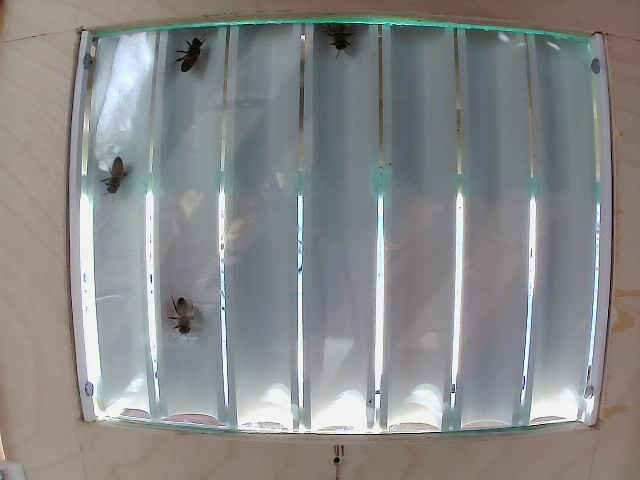bee: (106, 158, 147, 201), (164, 292, 204, 333), (183, 34, 214, 85), (314, 15, 345, 52)
